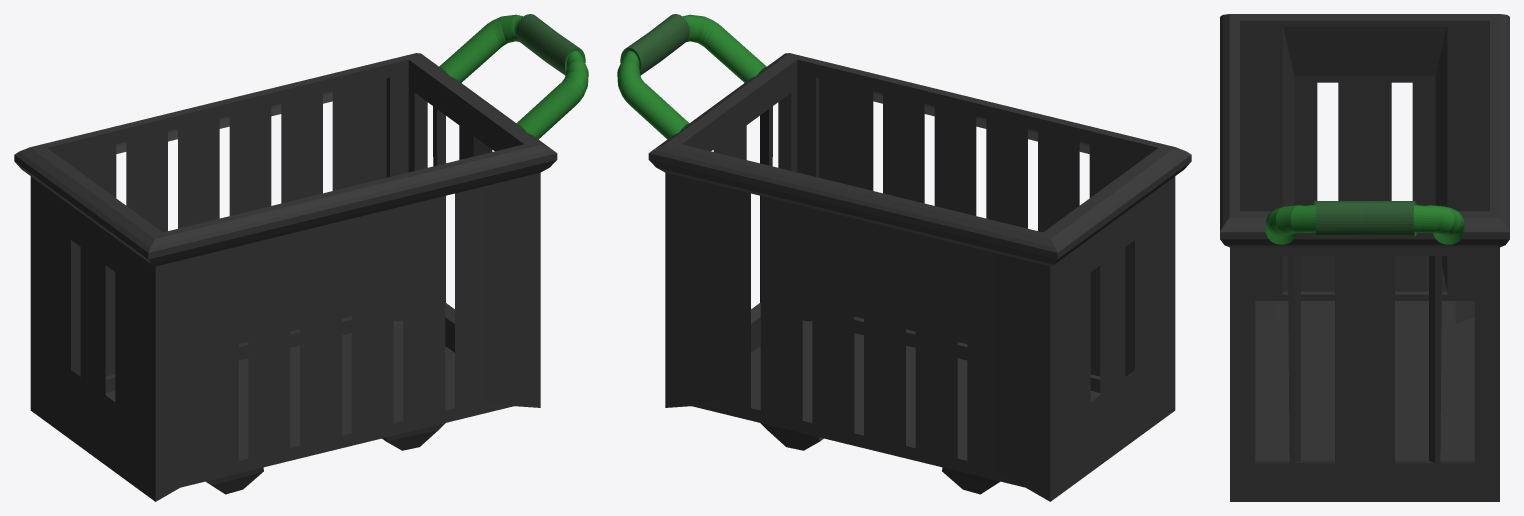
File: carritoMercadona.fbx
3 views of the same model, side by side, from view 1: azimuth 30°, elevation 25°; view 2: azimuth 150°, elevation 25°; view 3: azimuth 270°, elevation 25° (orthographic). The views are drawn at different scales.
Visible parts, largest first — view 1: Cube; view 2: Cube; view 3: Cube.
Boxes of the visible parts, x1,y1,x2,y2 form: Cube: (14,14,588,501); Cube: (617,14,1191,501); Cube: (1220,14,1509,501).
Bounding box in the file's own units: 95.37 × 66.28 × 46.
1 material, 1 textured.
